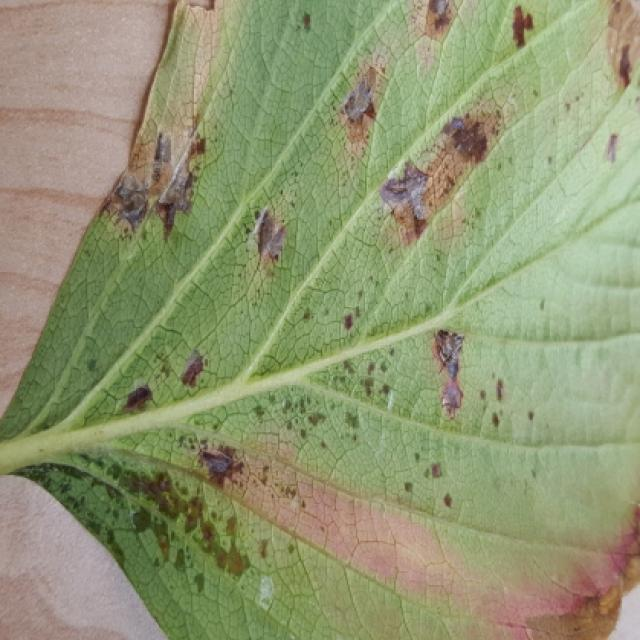Angular Leafspot: (4, 0, 640, 638)
